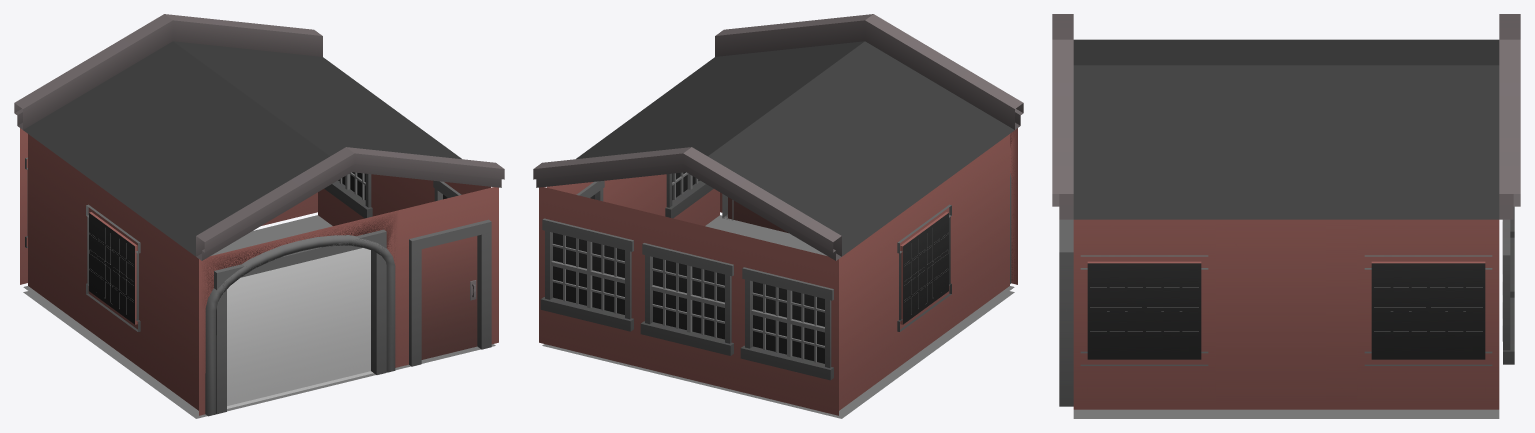
File: pump-house.glb
3 renders of one model, left to right at view 1: azimuth 30°, elevation 25°; view 2: azimuth 150°, elevation 25°; view 3: azimuth 270°, elevation 25°, orthographic. The views are drawn at different scales.
Parts seen in each view (by area): view 1: TreyIndustrialPumpHouseVisual; view 2: TreyIndustrialPumpHouseVisual; view 3: TreyIndustrialPumpHouseVisual.
Boxes of the visible parts, box(x1,y1,x2,y2) form: TreyIndustrialPumpHouseVisual: box(14, 14, 504, 418); TreyIndustrialPumpHouseVisual: box(533, 14, 1023, 418); TreyIndustrialPumpHouseVisual: box(1052, 14, 1520, 418).
Size of the model in its own units: 6 by 4.5 by 6.6.
Materials: 1 (1 with a texture image).
